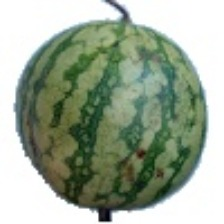watermelon: (22, 9, 214, 190)
